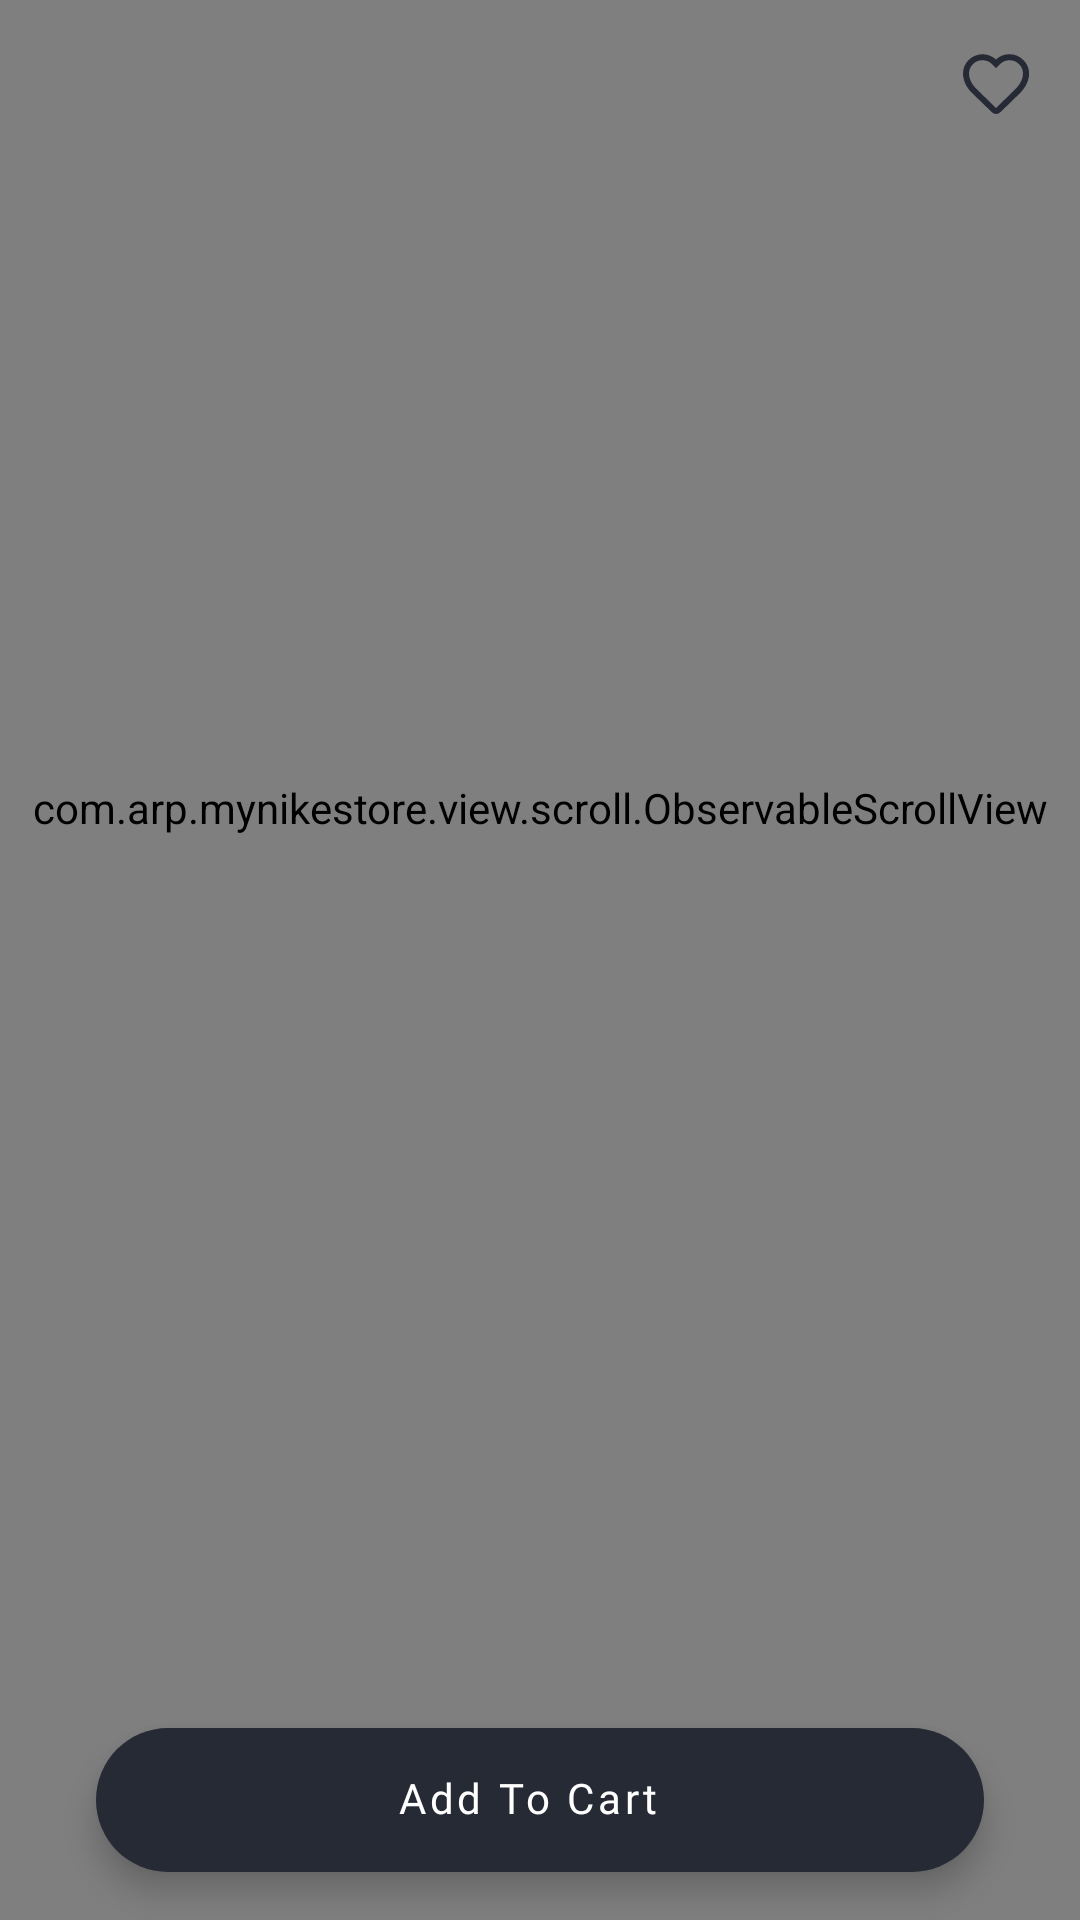

Icon bounding boxes for this 1080w x 1920h phone screenshot, format (x1, y1, x2, y2):
favorites: (963, 54, 1029, 114)
